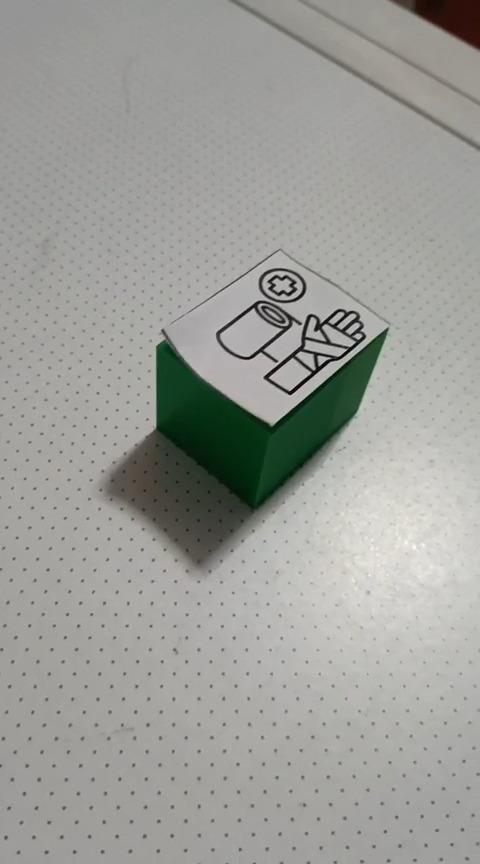Bandages: (154, 246, 390, 511)
